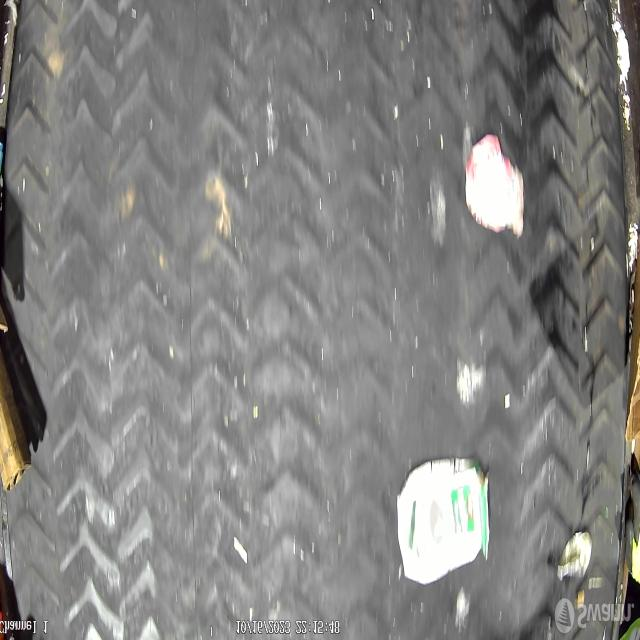non_white_jug: (396, 458, 491, 586)
